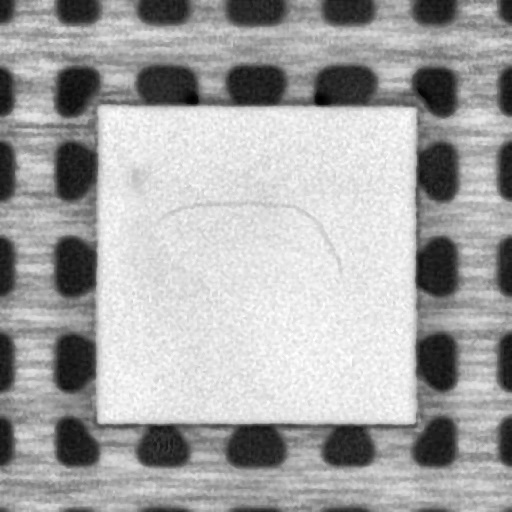DIE_CRACK: (157, 196, 343, 271)
